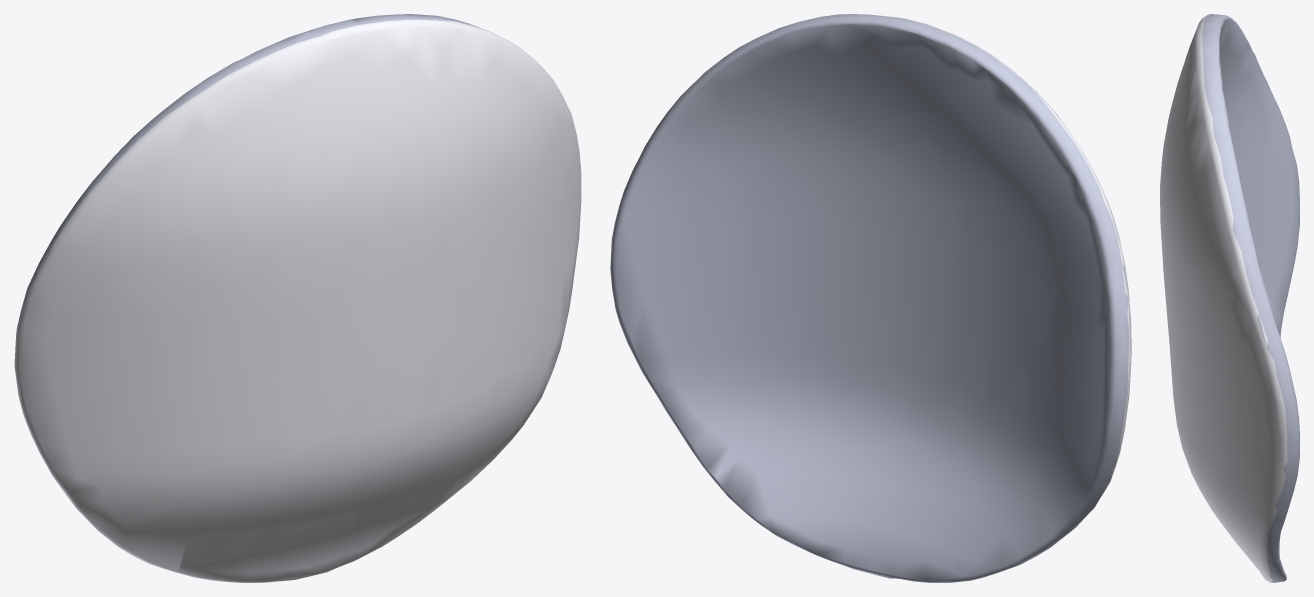
The model's file is plate-round.glb.
The picture shows the model from 3 angles, left to right: view 1: azimuth 30°, elevation 25°; view 2: azimuth 150°, elevation 25°; view 3: azimuth 270°, elevation 25°; orthographic projection. The views are drawn at different scales.
Visible parts, largest first — view 1: plate-round; view 2: plate-round; view 3: plate-round.
Boxes of the visible parts, x1,y1,x2,y2 form: plate-round: (14,14,581,582); plate-round: (610,14,1131,582); plate-round: (1160,14,1299,582).
Size of the model in its own units: 0.5742 by 0.5581 by 0.1381.
